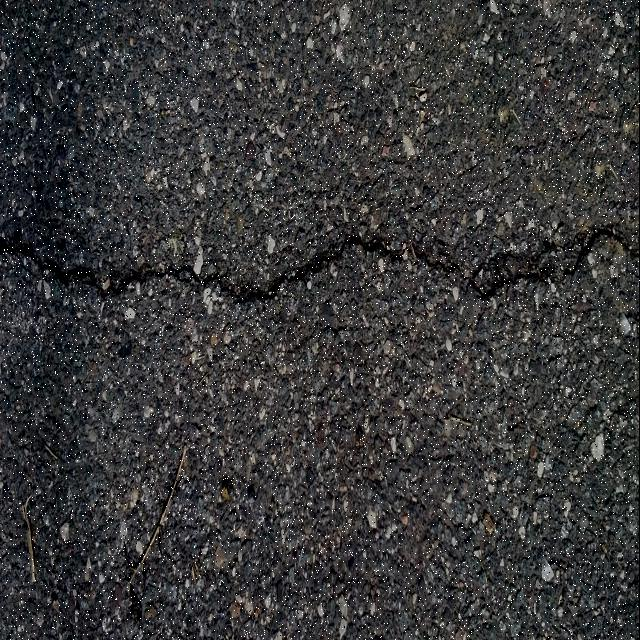Crack: (0, 209, 640, 308)
